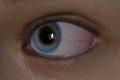eye: (32, 22, 61, 53)
